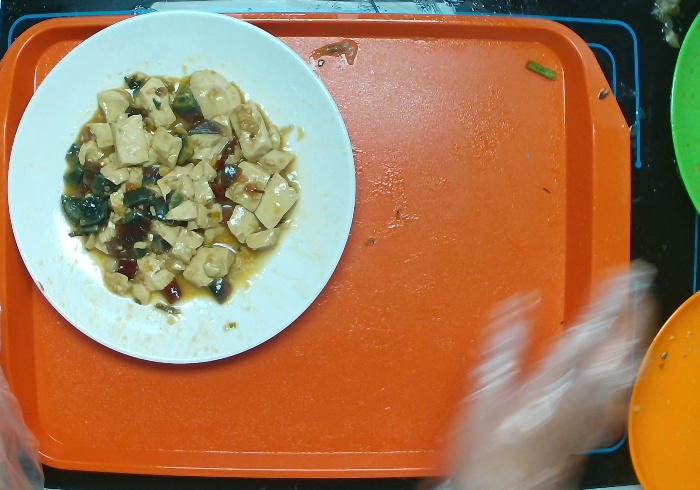HZYJPL-Bai_Se_Yuan_Pan: (3, 11, 365, 372)
